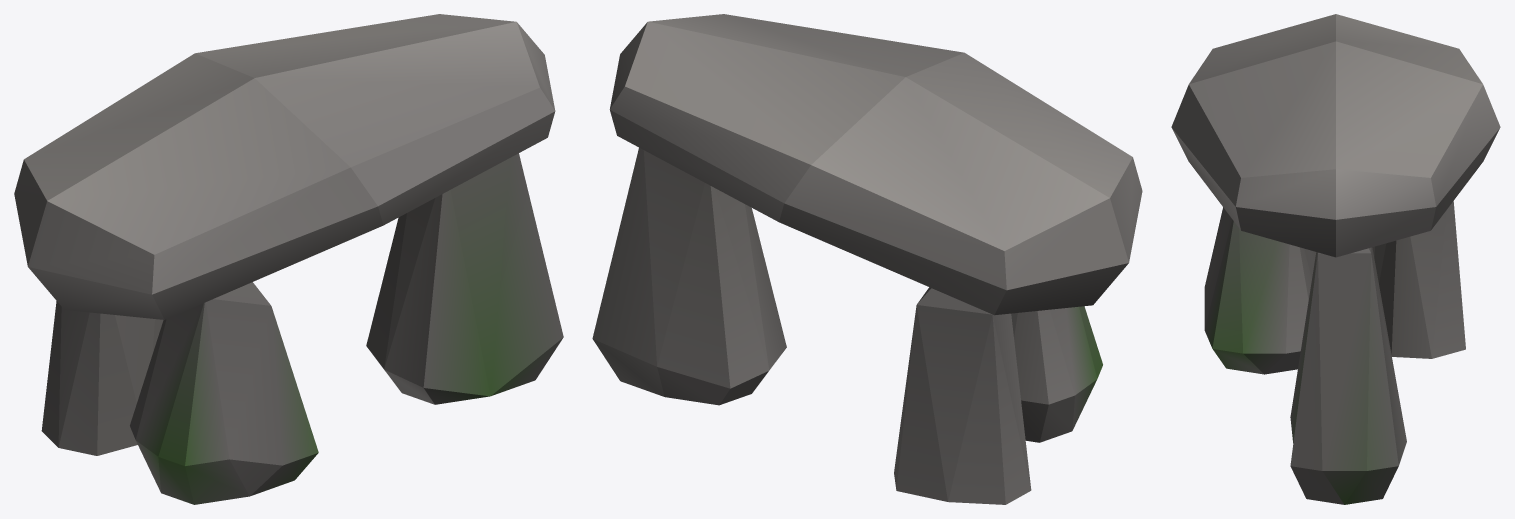
The model's file is Dolmen_01.fbx.
3 views of the same model, side by side, from view 1: azimuth 30°, elevation 25°; view 2: azimuth 150°, elevation 25°; view 3: azimuth 270°, elevation 25° (orthographic). The views are drawn at different scales.
Visible parts, largest first — view 1: Dolmen_01; view 2: Dolmen_01; view 3: Dolmen_01.
Boxes of the visible parts, bbox=[...] form: Dolmen_01: bbox=[14, 14, 563, 504]; Dolmen_01: bbox=[592, 14, 1142, 504]; Dolmen_01: bbox=[1171, 14, 1500, 504].
Bounding box in the file's own units: 3663 × 2381 × 2117.
